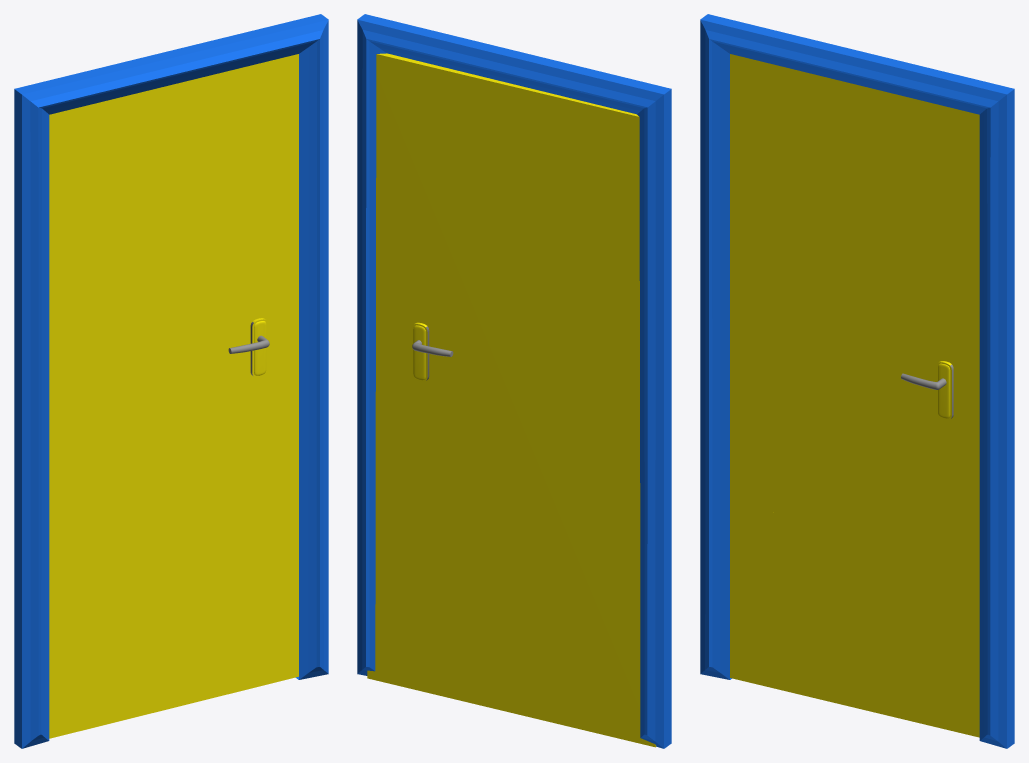
File: door fracture3.fbx
The picture shows the model from 3 angles, left to right: view 1: azimuth 30°, elevation 25°; view 2: azimuth 150°, elevation 25°; view 3: azimuth 330°, elevation 25°; orthographic projection.
Parts seen in each view (by area): view 1: encadrement_002, Porte_003_Part_15, Porte_003_Part_9, Porte_003_Part_11, Porte_003_Part_14, Porte_003_Part_16, Porte_003_Part_18, Porte_003_Part_12, Porte_003_Part_6, Porte_003_Part_13, Porte_003_Part_5, Porte_003_Part_8 (+10 smaller); view 2: encadrement_002, Porte_003_Part_15, Porte_003_Part_11, Porte_003_Part_9, Porte_003_Part_16, Porte_003_Part_14, Porte_003_Part_18, Porte_003_Part_12, Porte_003_Part_6, Porte_003_Part_13, Porte_003_Part_8, Porte_003_Part_5 (+10 smaller); view 3: encadrement_002, Porte_003_Part_15, Porte_003_Part_9, Porte_003_Part_16, Porte_003_Part_14, Porte_003_Part_11, Porte_003_Part_18, Porte_003_Part_12, Porte_003_Part_6, Porte_003_Part_13, Porte_003_Part_5, Porte_003_Part_2 (+10 smaller).
Part boxes in pixels (x1,y1,x2,y2): encadrement_002: (14, 14, 328, 748); Porte_003_Part_15: (49, 80, 198, 273); Porte_003_Part_9: (139, 562, 254, 715); Porte_003_Part_11: (189, 54, 298, 189); Porte_003_Part_14: (159, 262, 292, 420); Porte_003_Part_16: (49, 582, 142, 738); Porte_003_Part_18: (138, 415, 248, 583); Porte_003_Part_12: (91, 203, 200, 365); Porte_003_Part_6: (78, 415, 169, 583); Porte_003_Part_13: (51, 300, 162, 419); Porte_003_Part_5: (191, 184, 298, 275); Porte_003_Part_8: (240, 388, 298, 549); encadrement_002: (357, 14, 671, 748); Porte_003_Part_15: (482, 79, 639, 277); Porte_003_Part_11: (376, 53, 493, 194); Porte_003_Part_9: (425, 565, 541, 719); Porte_003_Part_16: (539, 586, 656, 747); Porte_003_Part_14: (387, 265, 521, 424); Porte_003_Part_18: (431, 420, 541, 587); Porte_003_Part_12: (480, 207, 590, 369); Porte_003_Part_6: (510, 419, 603, 587); Porte_003_Part_13: (518, 303, 630, 423); Porte_003_Part_8: (375, 392, 439, 553); Porte_003_Part_5: (376, 188, 489, 279); encadrement_002: (700, 14, 1014, 748); Porte_003_Part_15: (730, 54, 885, 234); Porte_003_Part_9: (825, 568, 941, 722); Porte_003_Part_16: (730, 561, 828, 701); Porte_003_Part_14: (845, 276, 979, 453); Porte_003_Part_11: (876, 89, 979, 241); Porte_003_Part_18: (825, 420, 936, 573); Porte_003_Part_12: (776, 213, 886, 361); Porte_003_Part_6: (763, 405, 856, 567); Porte_003_Part_13: (737, 261, 848, 408); Porte_003_Part_5: (877, 197, 979, 328); Porte_003_Part_2: (730, 341, 825, 452).
Bounding box in the file's own units: 111 × 225 × 15.
